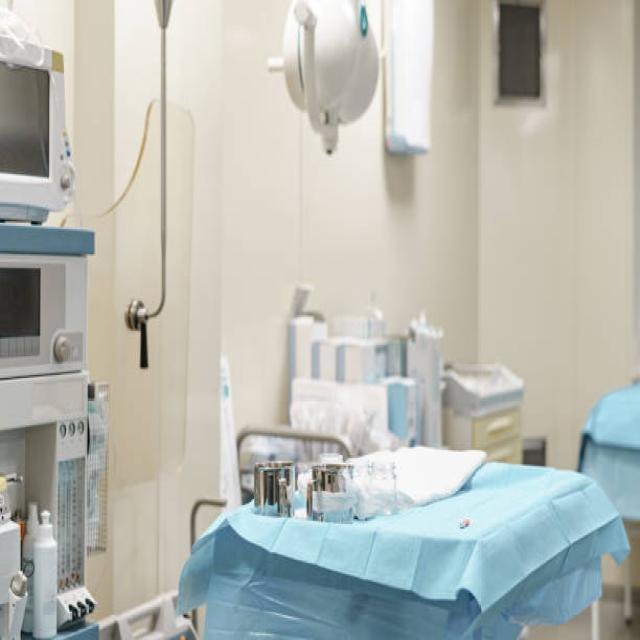Monitor: (172, 438, 622, 640), (0, 10, 82, 258)
